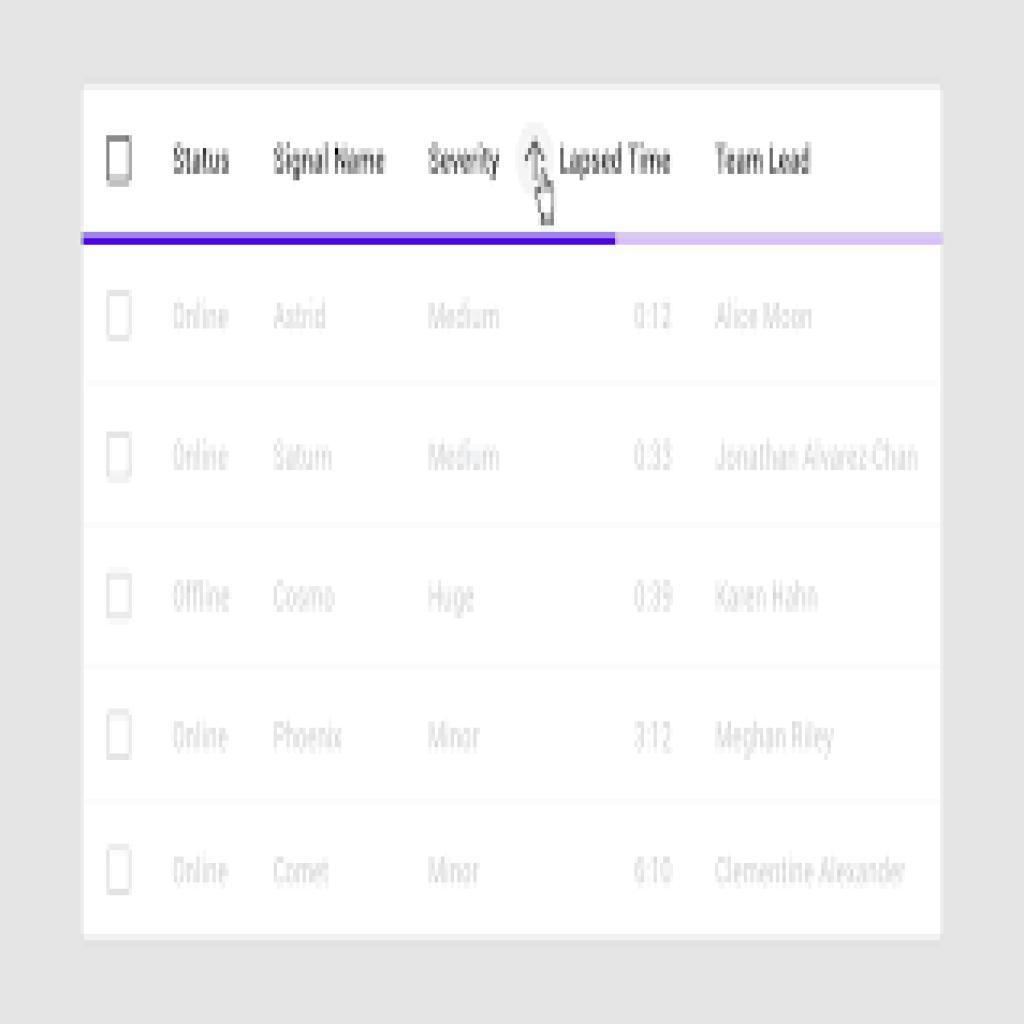checkbox: (104, 846, 141, 902), (104, 290, 139, 345), (105, 134, 136, 190), (105, 431, 136, 487), (106, 711, 138, 765), (105, 572, 138, 624)
